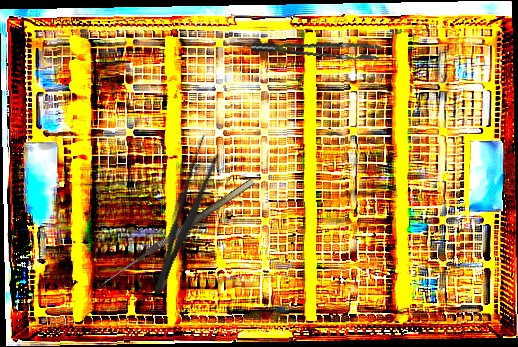Dressing Forceps: (144, 133, 225, 301)
Hook Surgical: (96, 178, 261, 297)
Tissue Forceps: (250, 24, 383, 73)
